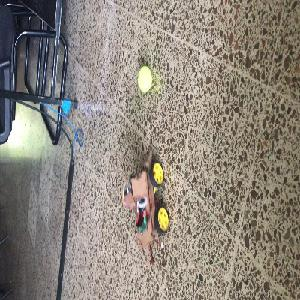Ball: (137, 67, 152, 91)
Robot: (123, 150, 169, 249)
